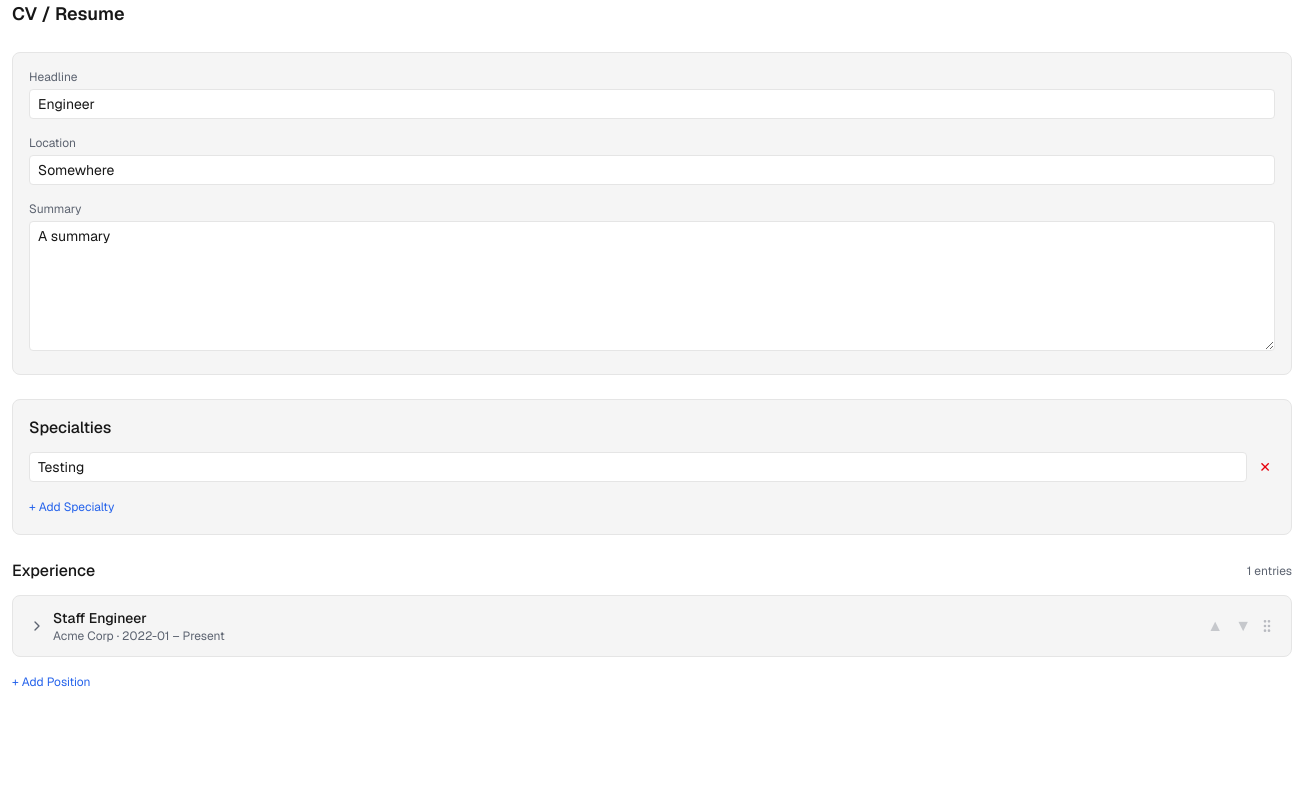
CVTab › shows highlights when expanded
The image size is (1304, 800).
Click the text "Staff Engineer": (100, 618) [53, 609, 147, 627]
(page scrolled)
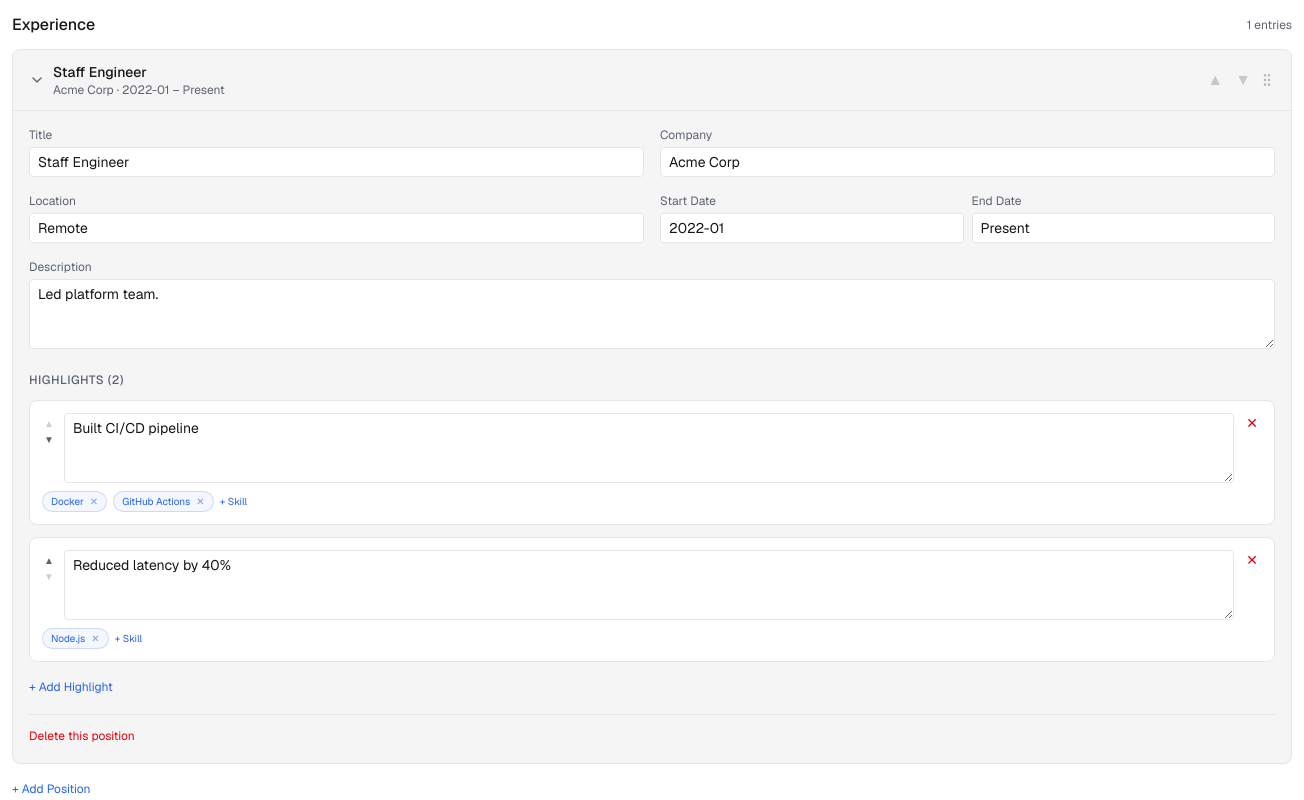
Expected: the text box showing "Built CI/CD pipeline" is shown, [64, 413, 1234, 483]
Expected: the text box showing "Reduced latency by 40%" is shown, [64, 550, 1234, 620]
